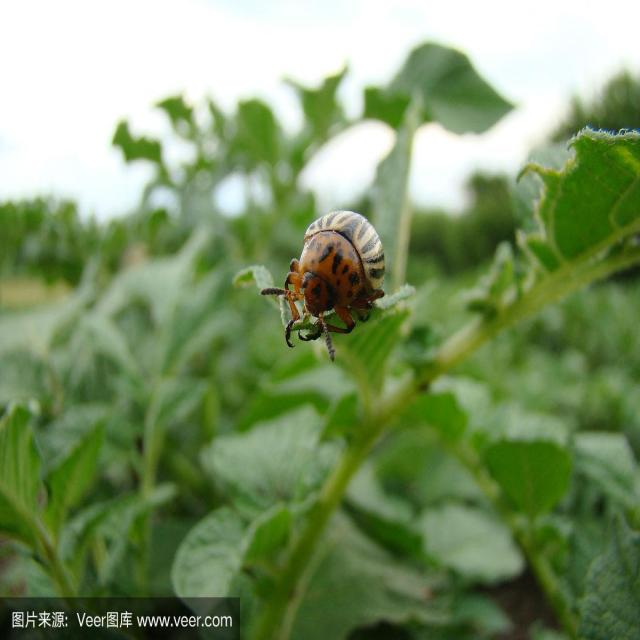ShuCaiHuaBanChong-Grown-: (284, 201, 394, 351)
